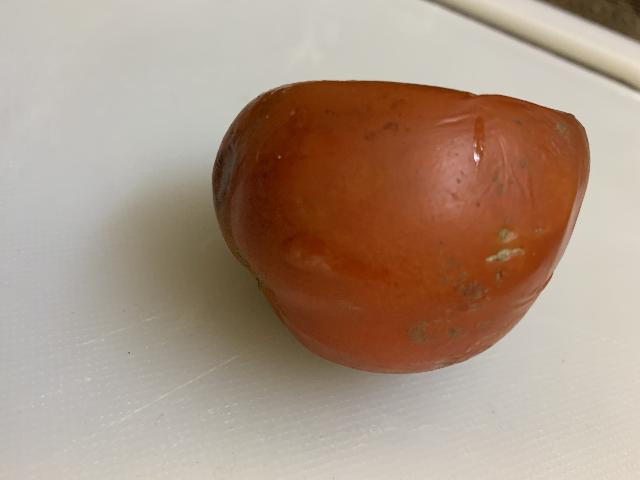defect: (205, 71, 599, 384)
